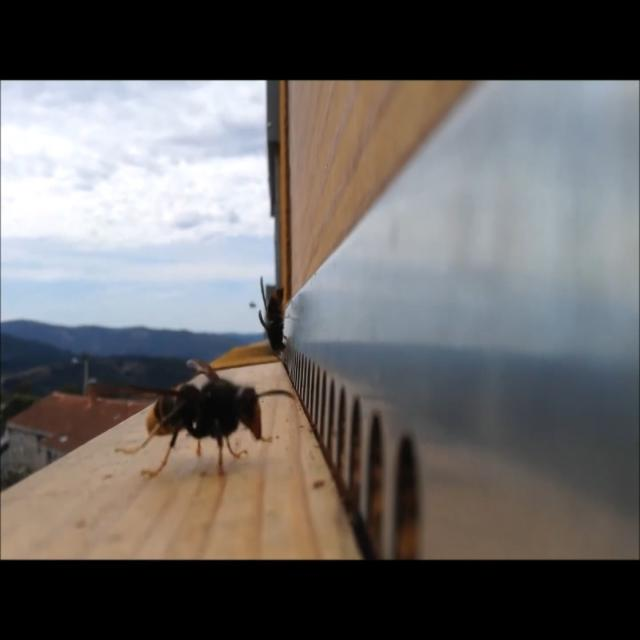Hornets: (84, 353, 297, 478), (251, 268, 297, 362)
